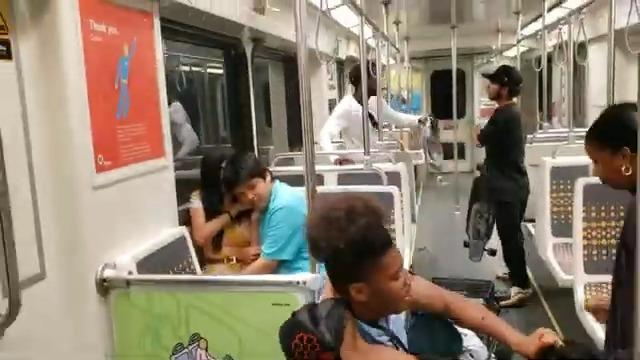non-violence: (466, 64, 538, 308), (585, 102, 640, 352), (222, 153, 322, 276), (318, 71, 434, 165), (187, 146, 264, 274)
violence: (281, 196, 605, 360)
